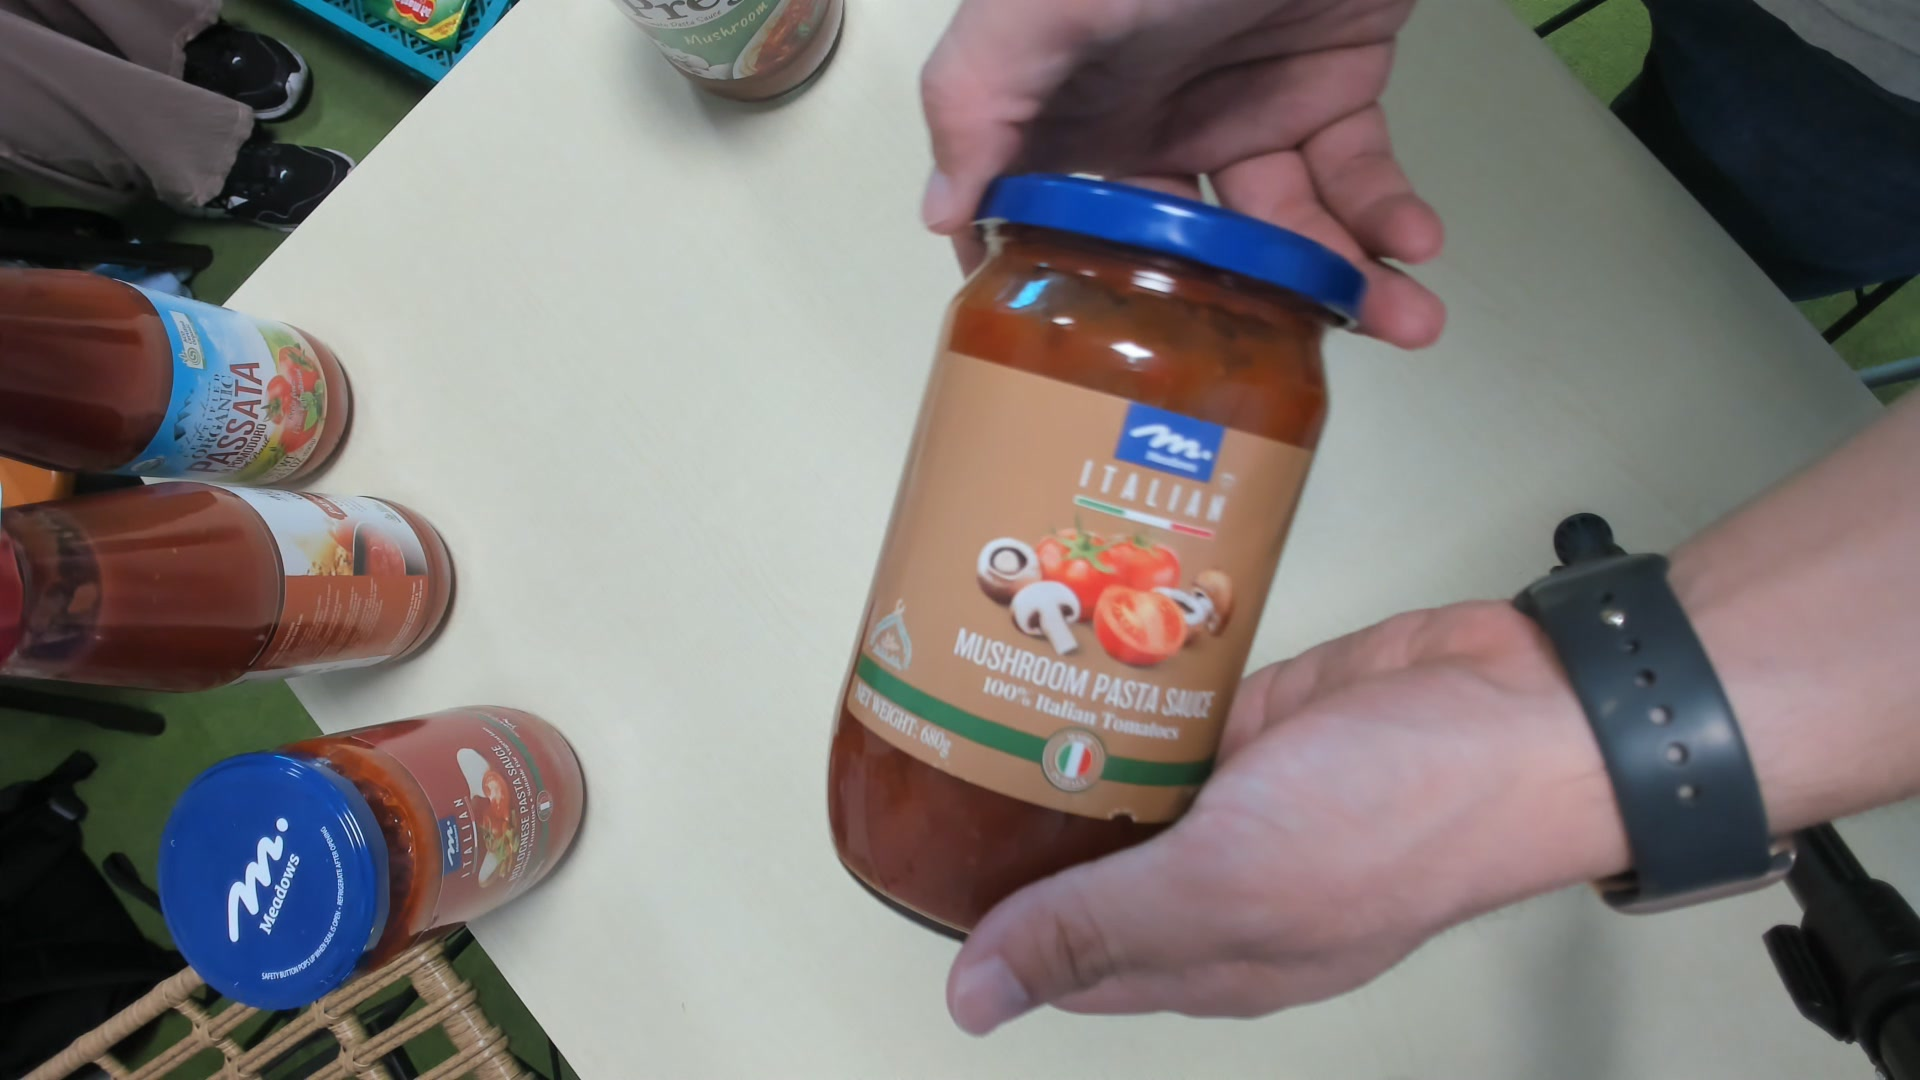PastaSauce_600-699g_Halal_NonHealthy: (836, 169, 1360, 975)
